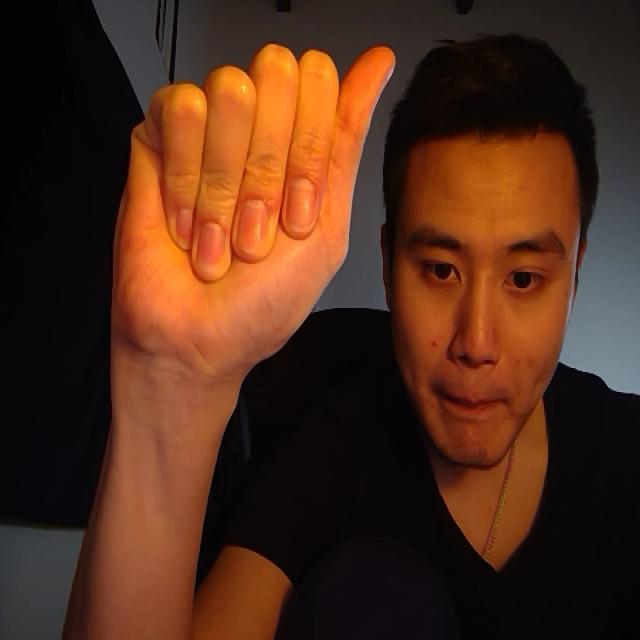A: (89, 18, 420, 424)
